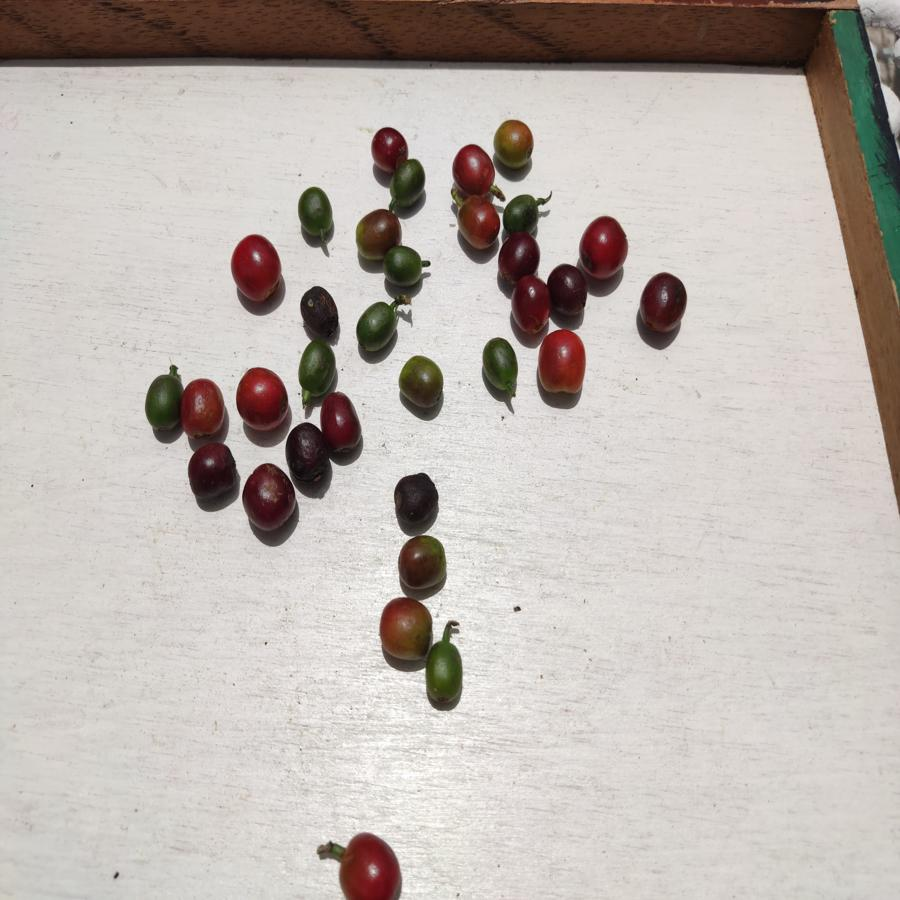Inmaduro: (425, 636, 467, 710), (478, 338, 523, 397), (142, 371, 183, 432), (295, 341, 338, 393), (298, 186, 338, 238), (356, 302, 398, 351), (389, 160, 428, 207), (384, 245, 427, 287), (503, 194, 541, 231)
Maduro: (338, 831, 404, 900), (227, 233, 282, 303), (234, 363, 288, 428), (537, 330, 588, 398), (578, 213, 629, 277), (454, 197, 502, 256), (180, 378, 225, 437), (452, 144, 497, 198)
Pinton: (396, 533, 449, 595), (380, 598, 432, 660), (396, 354, 447, 416), (496, 120, 537, 169), (353, 209, 404, 248)
Sobremaduro: (242, 463, 295, 528), (638, 271, 687, 334), (187, 443, 236, 505), (319, 392, 366, 453), (298, 285, 342, 342), (286, 425, 329, 483), (391, 471, 438, 524), (508, 275, 550, 332), (547, 263, 588, 319), (498, 234, 543, 278), (369, 124, 409, 161)
